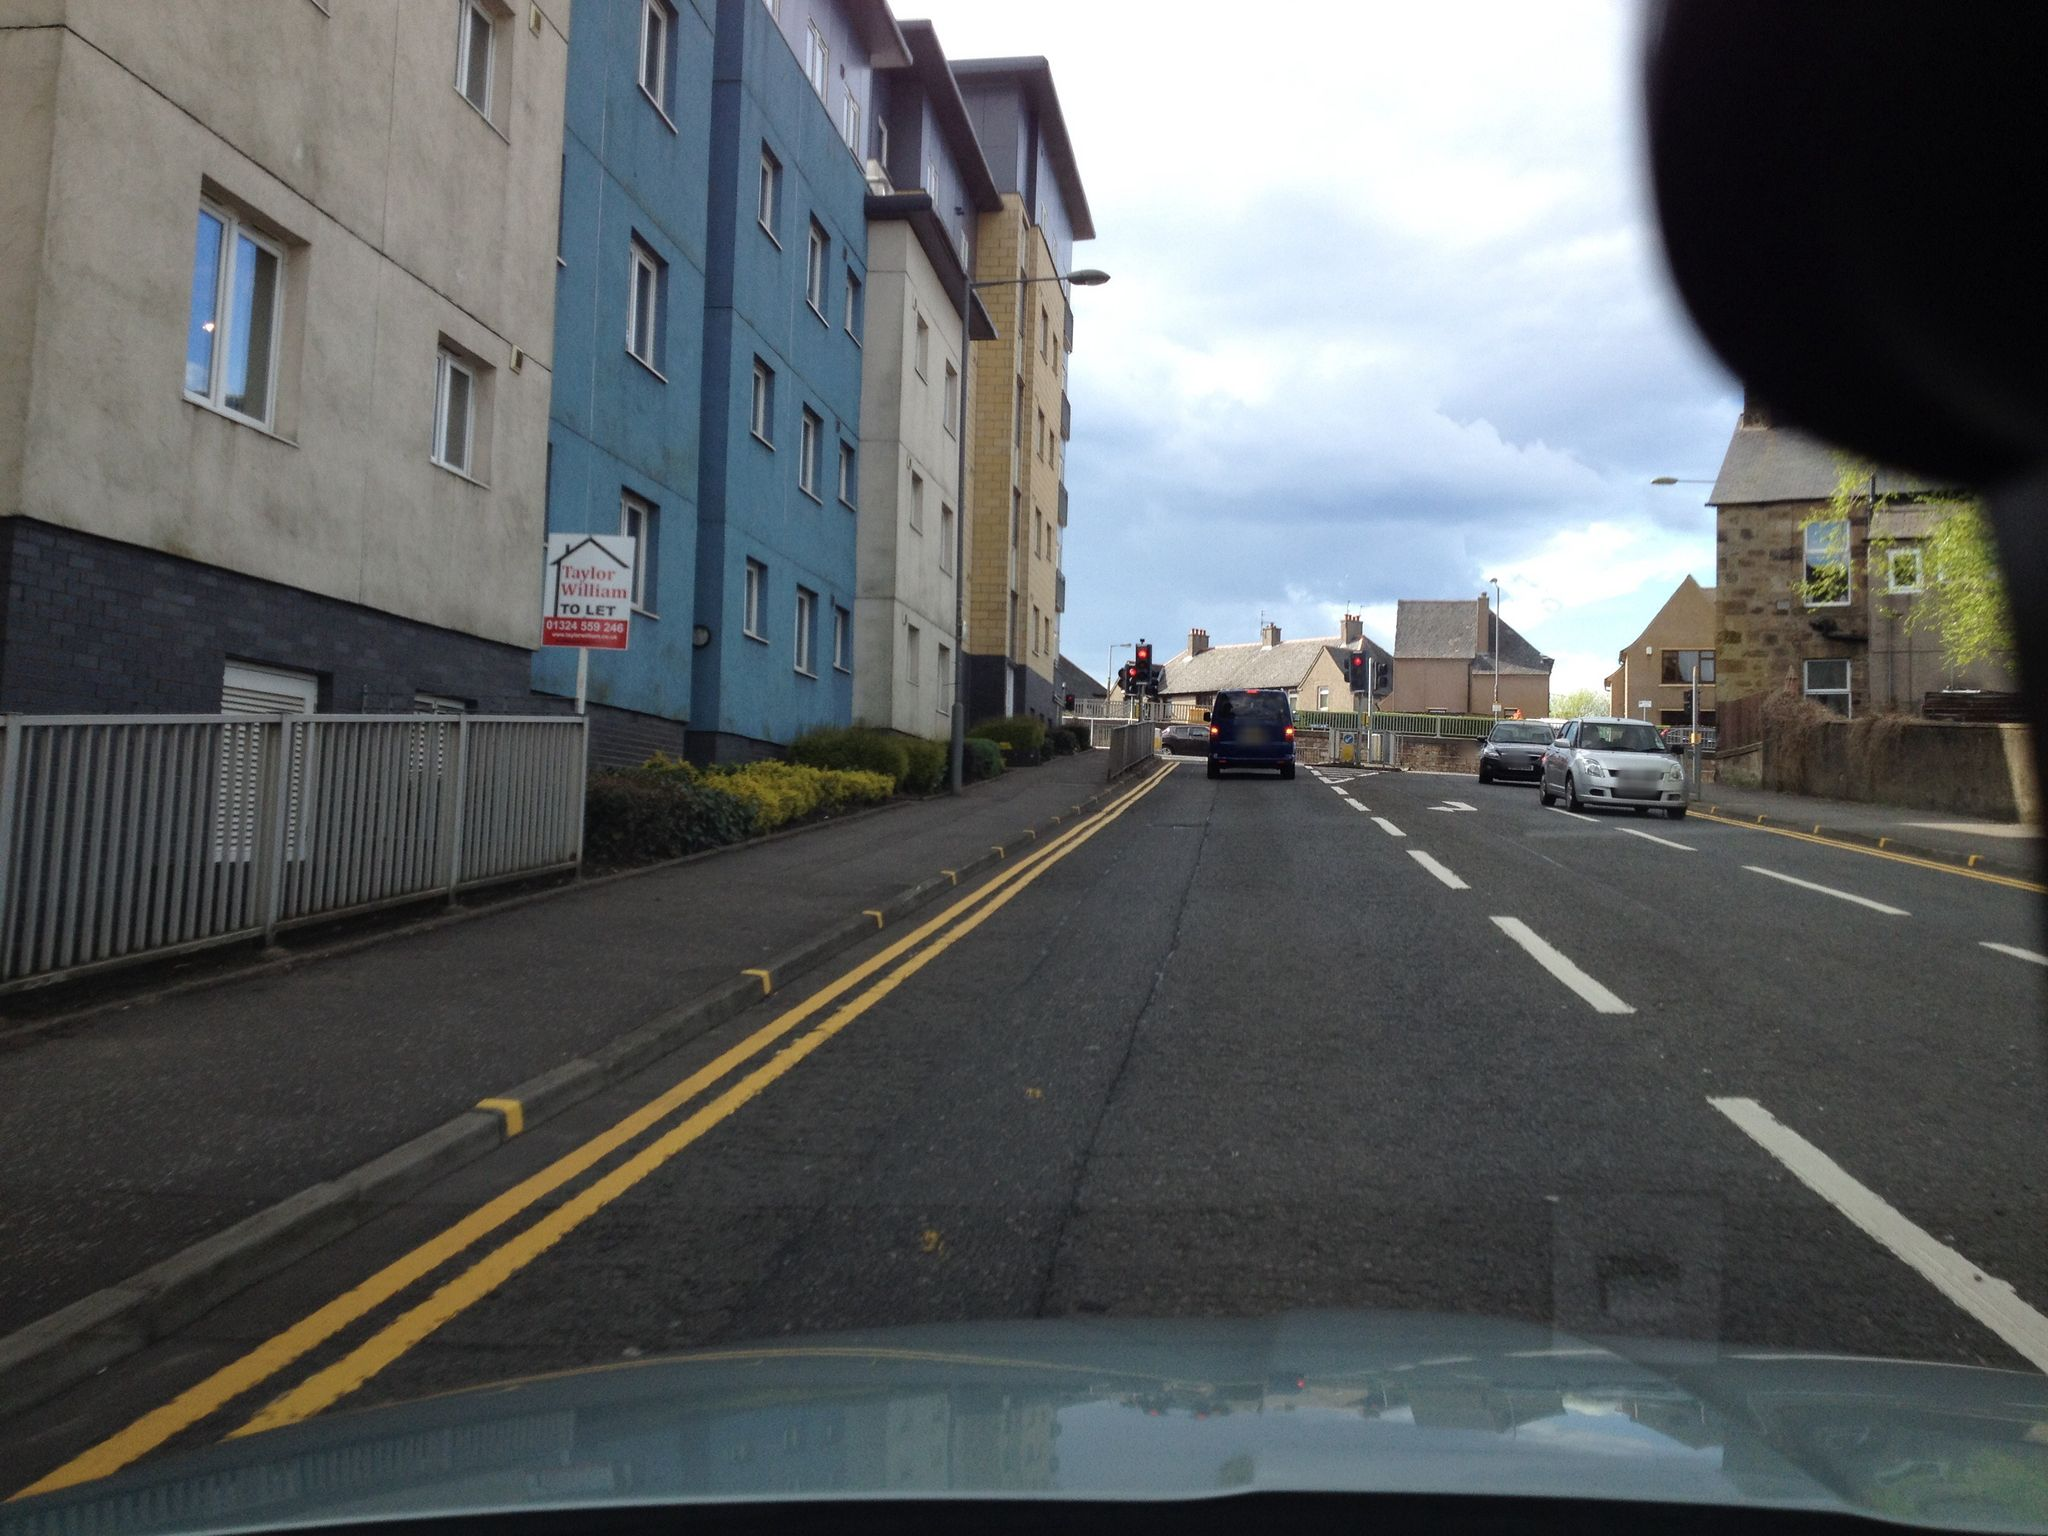car: (1538, 716, 1688, 820), (1201, 687, 1298, 779), (1476, 720, 1558, 786), (1159, 724, 1211, 757)
